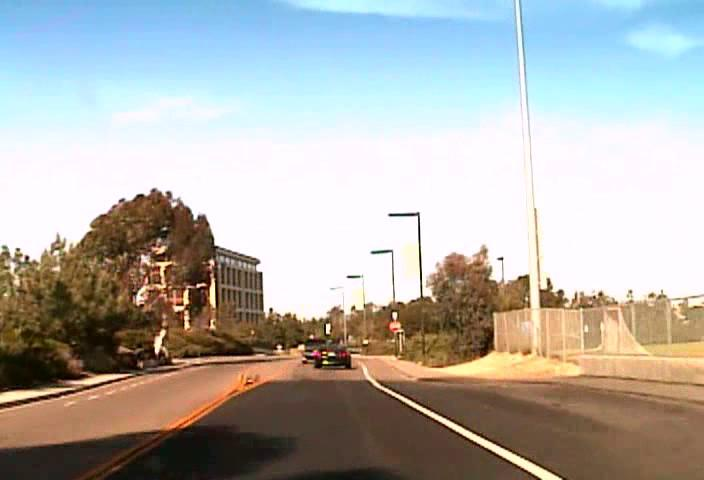stop: (389, 321, 401, 332)
